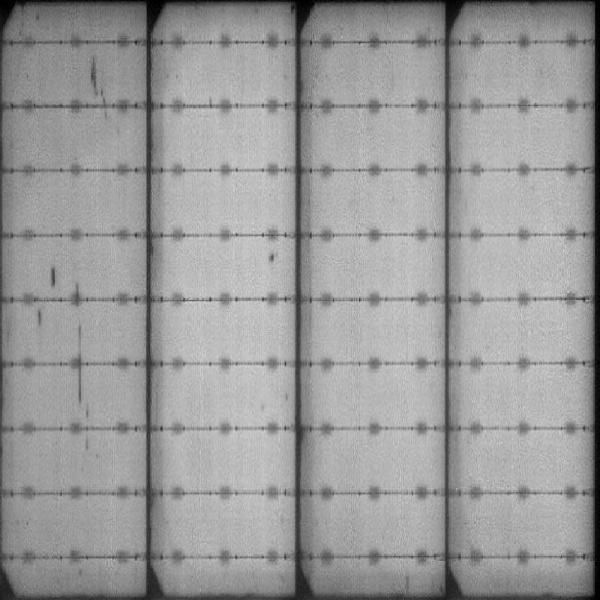scratch: (71, 278, 89, 418), (87, 55, 111, 118), (35, 306, 44, 327), (48, 266, 56, 289)
